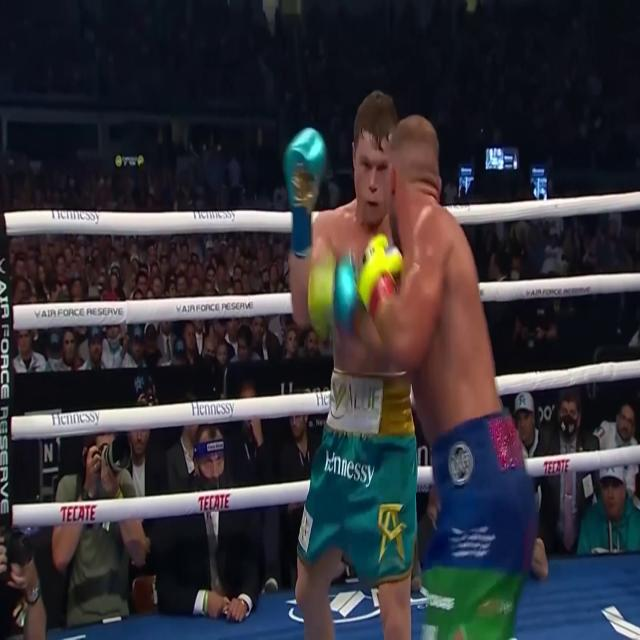boxer_1: (391, 115, 501, 443)
boxer_2: (331, 93, 409, 375)
gloves_1: (357, 232, 403, 317), (308, 257, 335, 336)
gloves_2: (283, 126, 327, 257), (333, 254, 359, 330)
